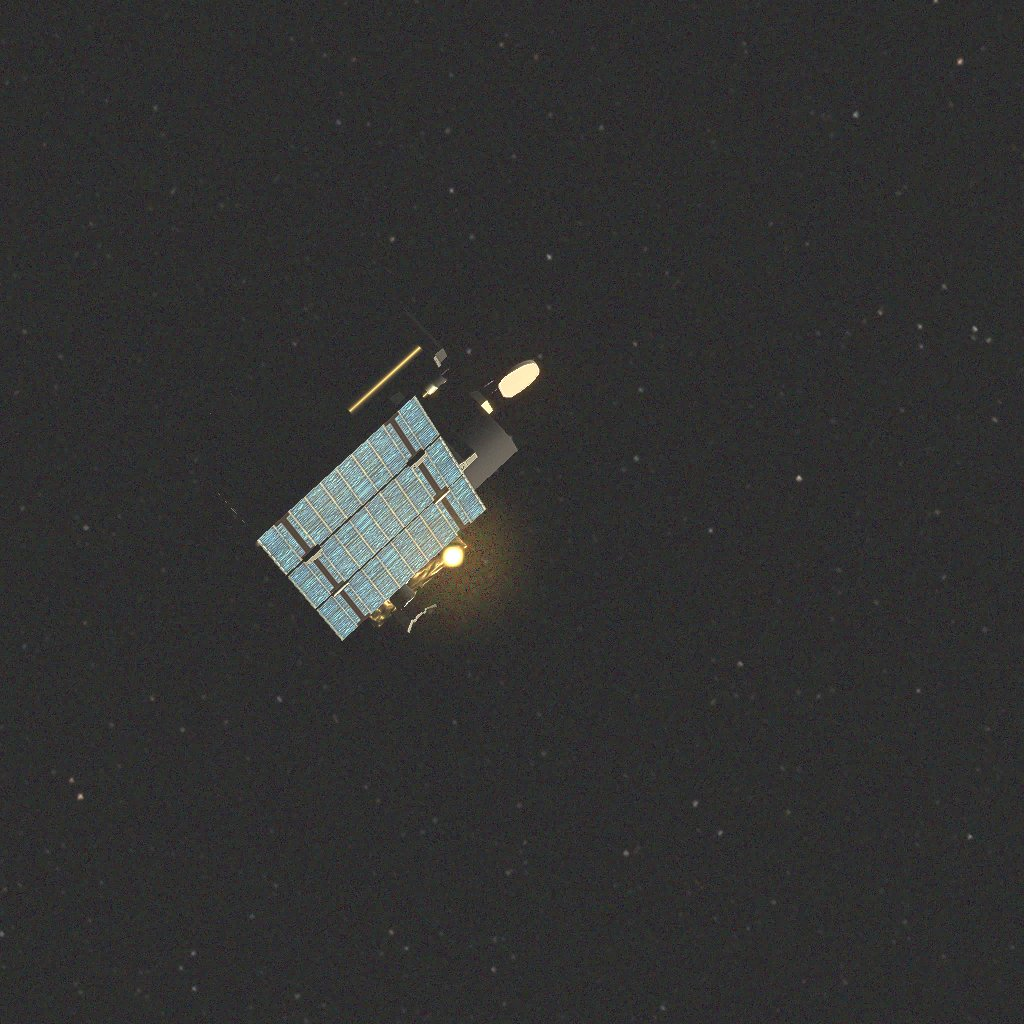earth_observation_sat_1: (191, 307, 539, 641)
